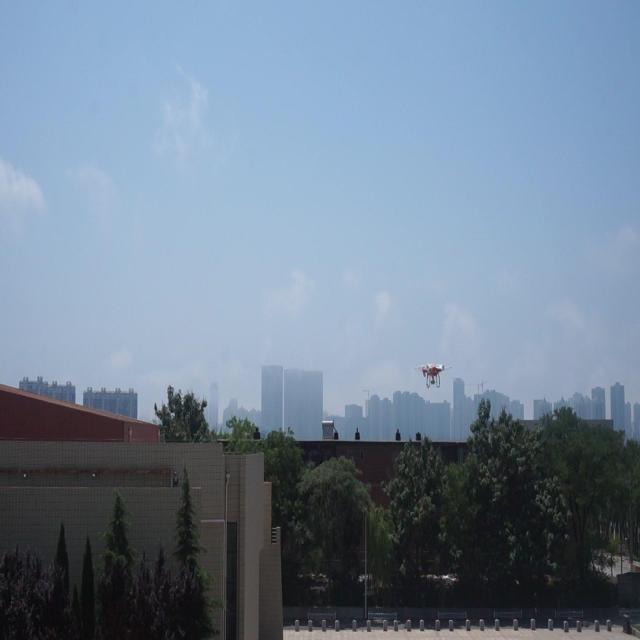drone: (411, 358, 451, 390)
